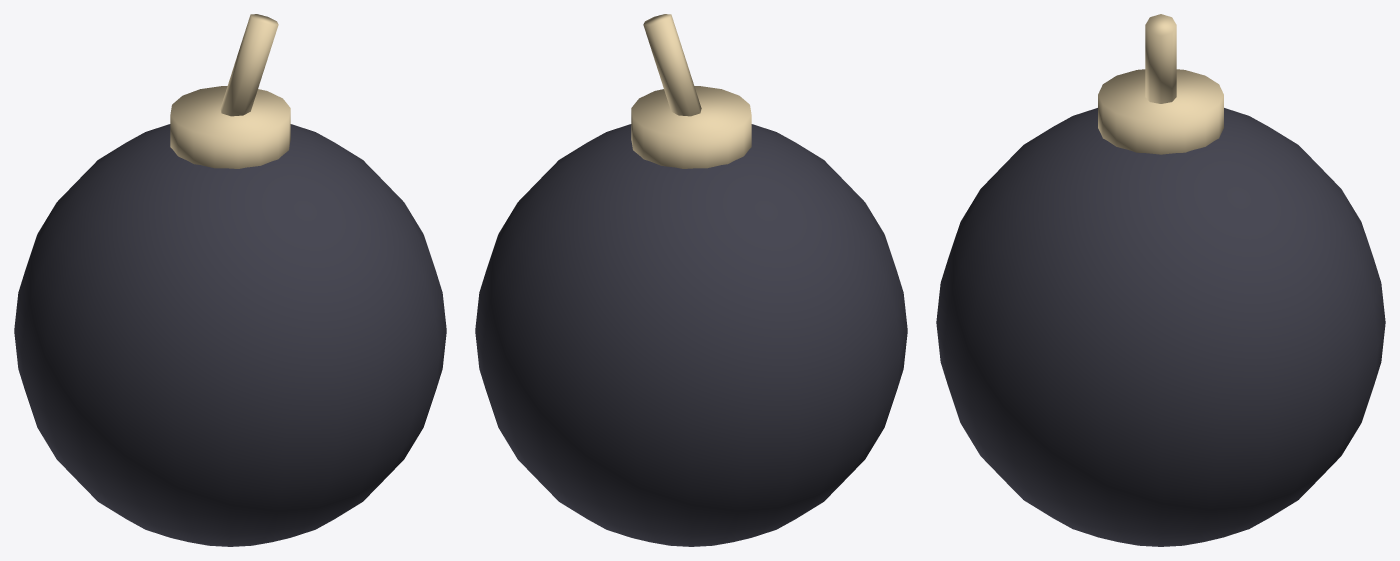
The model's file is bomb.glb.
The picture shows the model from 3 angles, left to right: view 1: azimuth 30°, elevation 25°; view 2: azimuth 150°, elevation 25°; view 3: azimuth 270°, elevation 25°; orthographic projection. The views are drawn at different scales.
Parts seen in each view (by area): view 1: bomb; view 2: bomb; view 3: bomb.
Part boxes in pixels (x1=…): bomb: x1=14, y1=14, x2=446, y2=546; bomb: x1=475, y1=14, x2=907, y2=546; bomb: x1=936, y1=14, x2=1385, y2=546.
Size of the model in its own units: 1 by 1.28 by 1.
